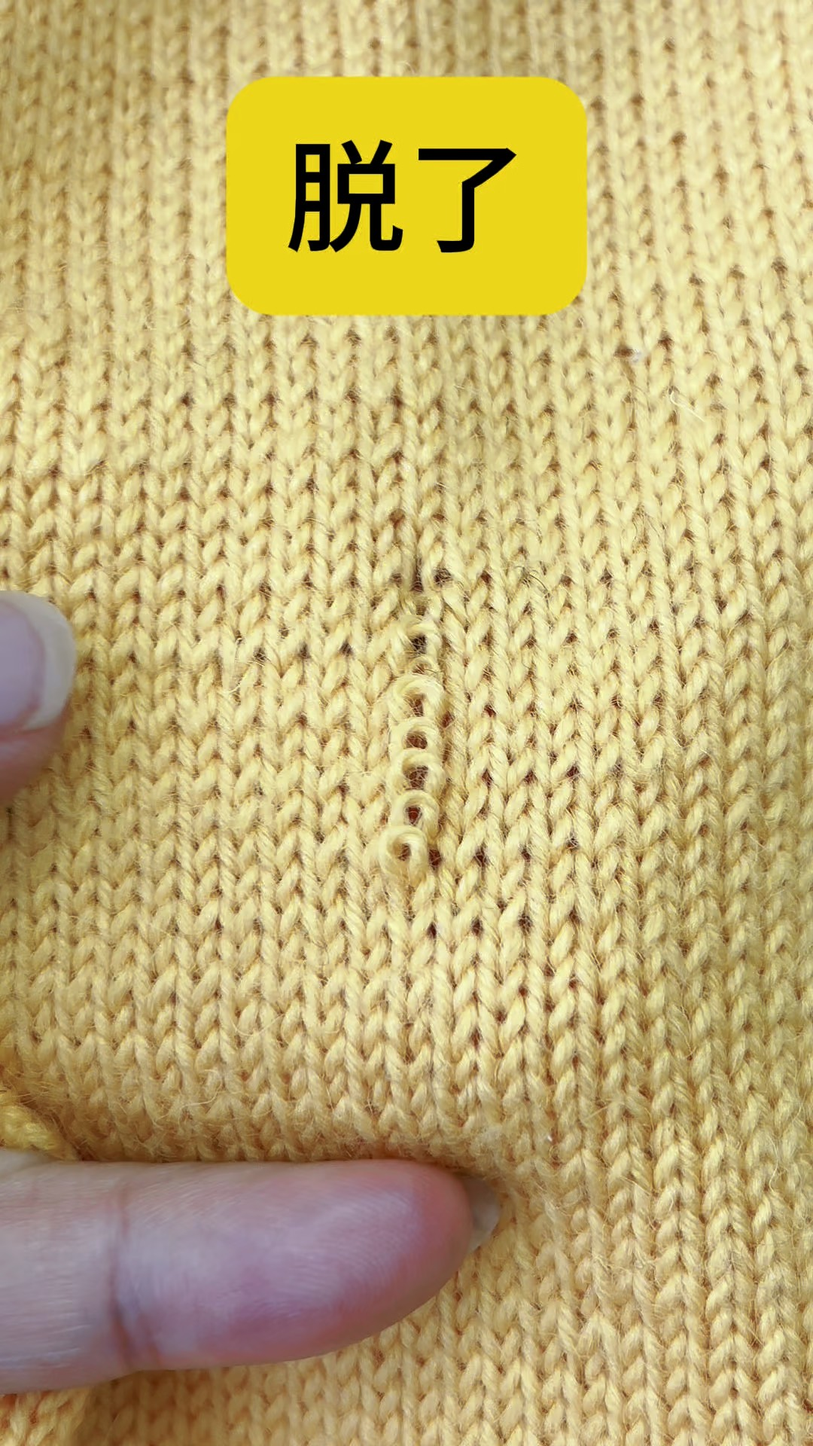missing_stitch_1: (385, 554, 450, 884)
